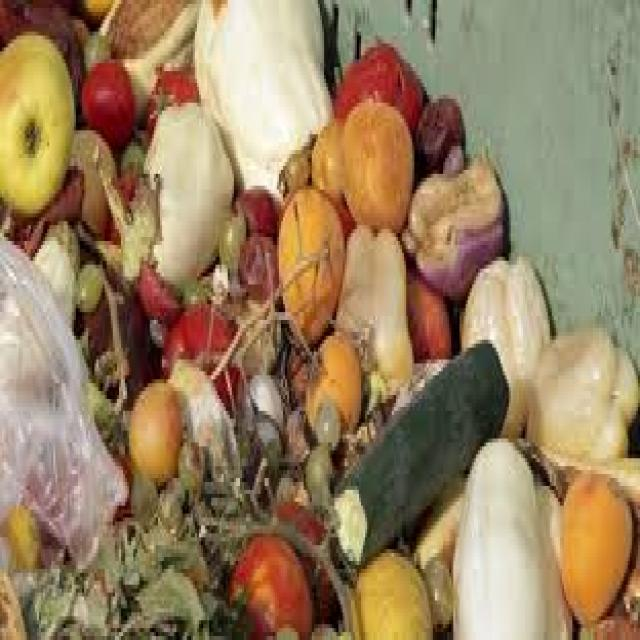food_waste: (298, 300, 518, 566), (189, 6, 360, 209), (126, 74, 261, 317), (1, 2, 99, 251), (324, 70, 435, 248), (113, 336, 214, 524), (271, 161, 350, 348)
